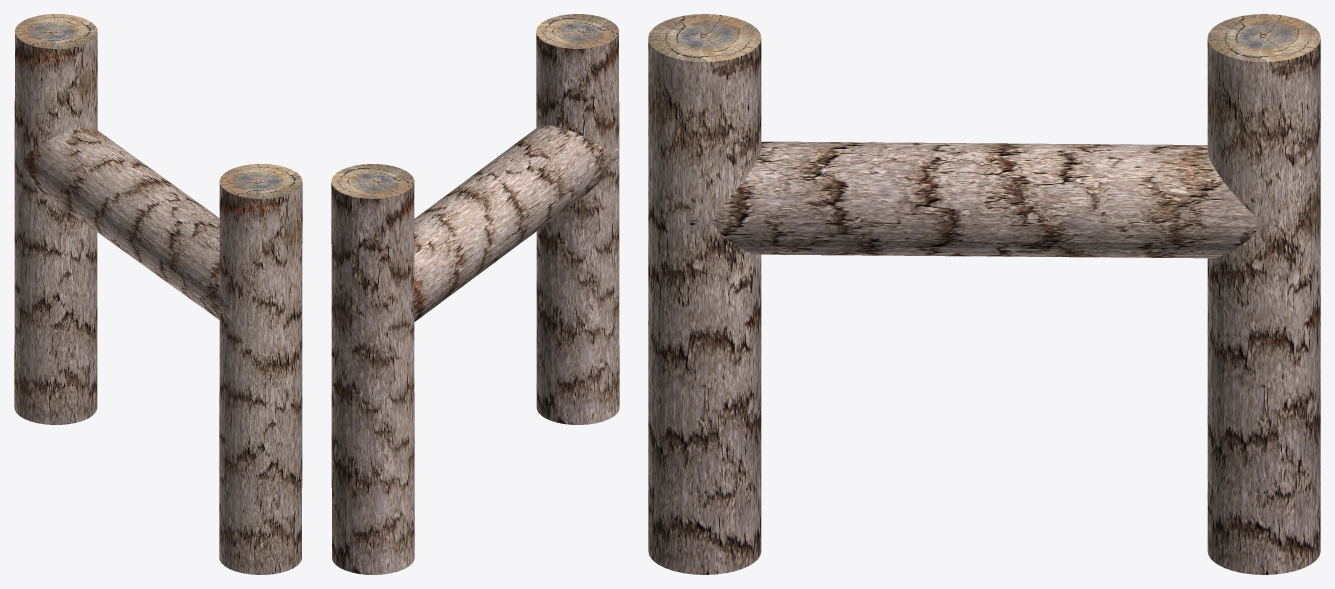
File: cerca de troncos.fbx
The picture shows the model from 3 angles, left to right: view 1: azimuth 30°, elevation 25°; view 2: azimuth 150°, elevation 25°; view 3: azimuth 270°, elevation 25°; orthographic projection. The views are drawn at different scales.
Visible parts, largest first — view 1: Cilindro.022, Cilindro.001, Cilindro.002; view 2: Cilindro.001, Cilindro.022, Cilindro.002; view 3: Cilindro.022, Cilindro.001, Cilindro.002.
Part boxes in pixels (x1,y1,x2,y2): Cilindro.022: (219,164,302,574); Cilindro.001: (14,14,97,424); Cilindro.002: (23,127,231,320); Cilindro.001: (331,164,414,574); Cilindro.022: (536,14,619,424); Cilindro.002: (411,125,619,321); Cilindro.022: (648,14,761,574); Cilindro.001: (1207,14,1320,574); Cilindro.002: (690,141,1256,258).
Bounding box in the file's own units: 201 × 1000 × 1188.
